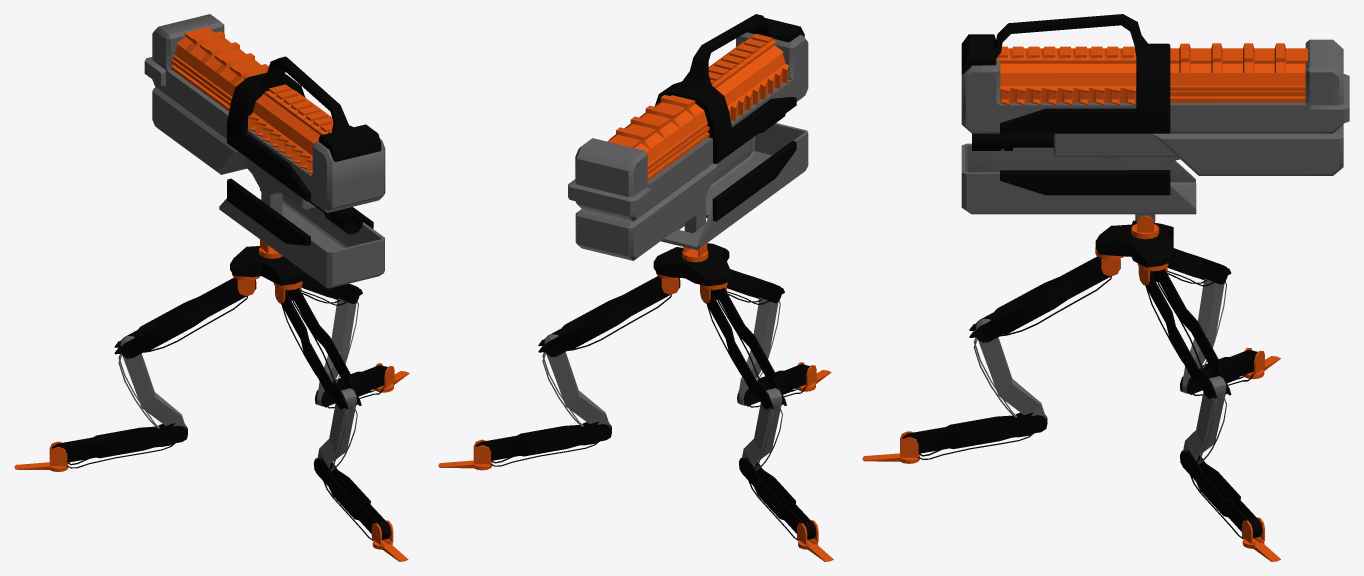
Rendered from Turret.fbx.
3 views of the same model, side by side, from view 1: azimuth 30°, elevation 25°; view 2: azimuth 150°, elevation 25°; view 3: azimuth 270°, elevation 25° (orthographic). The views are drawn at different scales.
Visible parts, largest first — view 1: Body, Cube.001, Joint1.002, Joint1, Joint3.002, Joint3, Joint2.002, Base, Joint2, Joint2.001, Joint3.001, Joint1.001 (+3 smaller); view 2: Body, Cube.001, Joint1.001, Joint1.002, Joint3.001, Base, Joint3.002, Joint2.001, Joint2.002, Joint2, Joint1, Joint3 (+2 smaller); view 3: Body, Cube.001, Joint1, Joint1.001, Joint3, Joint3.001, Base, Joint2, Joint2.001, Joint2.002, Joint1.002, Muzzle (+3 smaller).
Boxes of the visible parts, x1,y1,x2,y2 form: Body: [144, 14, 385, 212]; Cube.001: [219, 178, 384, 288]; Joint1.002: [114, 278, 256, 358]; Joint1: [281, 288, 361, 409]; Joint3.002: [52, 423, 187, 468]; Joint3: [314, 457, 390, 540]; Joint2.002: [118, 336, 186, 429]; Base: [230, 246, 305, 285]; Joint2: [317, 388, 357, 471]; Joint2.001: [317, 285, 358, 406]; Joint3.001: [315, 365, 387, 408]; Joint1.001: [301, 272, 362, 305]; Body: [568, 14, 808, 260]; Cube.001: [661, 123, 808, 249]; Joint1.001: [538, 276, 680, 357]; Joint1.002: [706, 288, 786, 409]; Joint3.001: [476, 421, 611, 466]; Base: [653, 243, 732, 286]; Joint3.002: [739, 457, 815, 540]; Joint2.001: [542, 334, 610, 427]; Joint2.002: [742, 388, 782, 470]; Joint2: [738, 297, 780, 405]; Joint1: [727, 269, 784, 304]; Joint3: [737, 364, 809, 407]; Body: [961, 14, 1349, 175]; Cube.001: [961, 143, 1196, 214]; Joint1: [969, 256, 1120, 342]; Joint1.001: [1145, 269, 1231, 398]; Joint3: [902, 412, 1047, 459]; Joint3.001: [1180, 450, 1262, 539]; Base: [1095, 220, 1173, 267]; Joint2: [973, 318, 1046, 432]; Joint2.001: [1183, 376, 1226, 464]; Joint2.002: [1182, 264, 1226, 394]; Joint1.002: [1167, 248, 1231, 286]; Muzzle: [972, 133, 1053, 150].
Bounding box in the file's own units: 0.6412 × 0.6358 × 0.6376.
